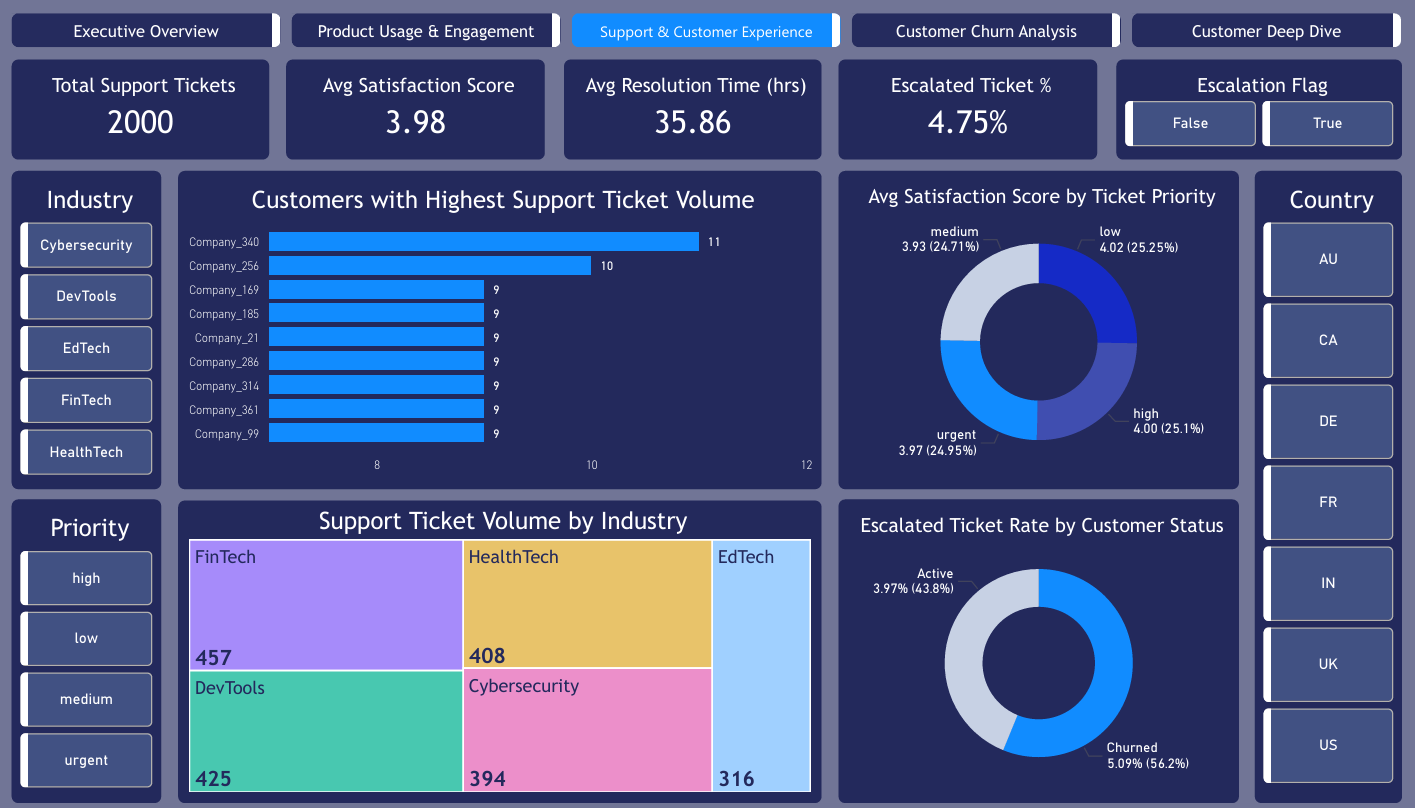

Layout of this report page (visuals, bound fields, positions):
{"tool":"powerbi","page":{"name":"Support & Customer Experience","canvas":[1280,720],"ordinal":2},"visuals":[{"type":"card","title":"Total Support Tickets","fields":{"Values":["CountNonNull(customer_support_tickets.ticket_id)"]},"box":[20.5,51.9,229.2,89.3],"z":0},{"type":"card","title":"Avg Resolution Time (hrs)","fields":{"Values":["DAX Measures.Average Resolution Time"]},"box":[511.5,51.9,229.2,89.3],"z":1000},{"type":"card","title":"Avg Satisfaction Score","fields":{"Values":["DAX Measures.Average Satisfaction"]},"box":[265.4,51.9,229.2,89.3],"z":2000},{"type":"card","title":"Escalated Ticket %","fields":{"Values":["DAX Measures.Escalated Ticket %"]},"box":[756.4,51.9,229.2,89.3],"z":3000},{"type":"clusteredBarChart","title":"Customers with Highest Support Ticket Volume","fields":{"Category":["customer_accounts.account_name"],"Y":["CountNonNull(customer_support_tickets.ticket_id)"]},"box":[168.9,150.8,571.9,283.5],"z":4000},{"type":"donutChart","title":"Escalated Ticket Rate by Customer Status","fields":{"Category":["customer_support_tickets.Customer Status"],"Y":["DAX Measures.Escalated Ticket %"]},"box":[756.4,442.8,355.9,270.2],"z":5000},{"type":"donutChart","title":"Avg Satisfaction Score by Ticket Priority","fields":{"Category":["customer_support_tickets.priority"],"Y":["Avg(customer_support_tickets.satisfaction_score)"]},"box":[756.4,150.8,355.9,283.5],"z":6000},{"type":"treemap","title":"Support Ticket Volume by Industry","fields":{"Group":["customer_accounts.industry"],"Values":["CountNonNull(customer_support_tickets.ticket_id)"]},"box":[168.9,444,571.9,269],"z":7000},{"type":"advancedSlicerVisual","title":"Priority","fields":{"Values":["customer_support_tickets.priority"]},"box":[20.5,442.8,133.9,270.2],"z":8000},{"type":"advancedSlicerVisual","title":"Industry","fields":{"Values":["customer_accounts.industry"]},"box":[20.5,150.8,133.9,283.5],"z":9000},{"type":"advancedSlicerVisual","title":"Escalation Flag","fields":{"Values":["customer_support_tickets.escalation_flag"]},"box":[1002.6,51.9,254.6,89.3],"z":10000},{"type":"advancedSlicerVisual","title":"Country","fields":{"Values":["customer_accounts.country"]},"box":[1125.6,150.8,131.5,562.2],"z":11000},{"type":"pageNavigator","box":[20.5,10.9,1236.6,30.2],"z":12000}]}

Visuals, with their boxes in screenshot pixels (x1, y1, x2, y2), scaled from the page's 1280x720 canvas onto the 1415x808 screenshot:
"Total Support Tickets" card: [23, 58, 276, 158]
"Avg Resolution Time (hrs)" card: [565, 58, 819, 158]
"Avg Satisfaction Score" card: [293, 58, 547, 158]
"Escalated Ticket %" card: [836, 58, 1090, 158]
"Customers with Highest Support Ticket Volume" clusteredBarChart: [187, 169, 819, 487]
"Escalated Ticket Rate by Customer Status" donutChart: [836, 497, 1230, 800]
"Avg Satisfaction Score by Ticket Priority" donutChart: [836, 169, 1230, 487]
"Support Ticket Volume by Industry" treemap: [187, 498, 819, 800]
"Priority" advancedSlicerVisual: [23, 497, 171, 800]
"Industry" advancedSlicerVisual: [23, 169, 171, 487]
"Escalation Flag" advancedSlicerVisual: [1108, 58, 1390, 158]
"Country" advancedSlicerVisual: [1244, 169, 1390, 800]
pageNavigator: [23, 12, 1390, 46]
